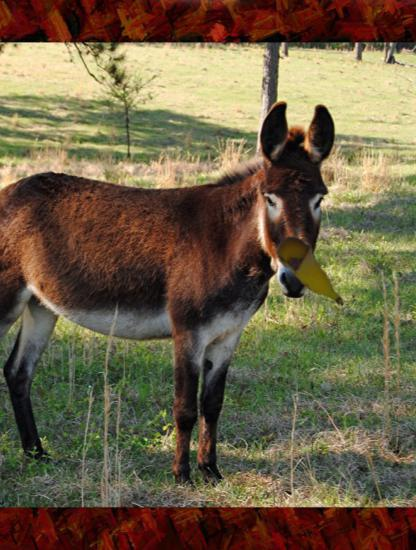Banana: (268, 228, 358, 318)
